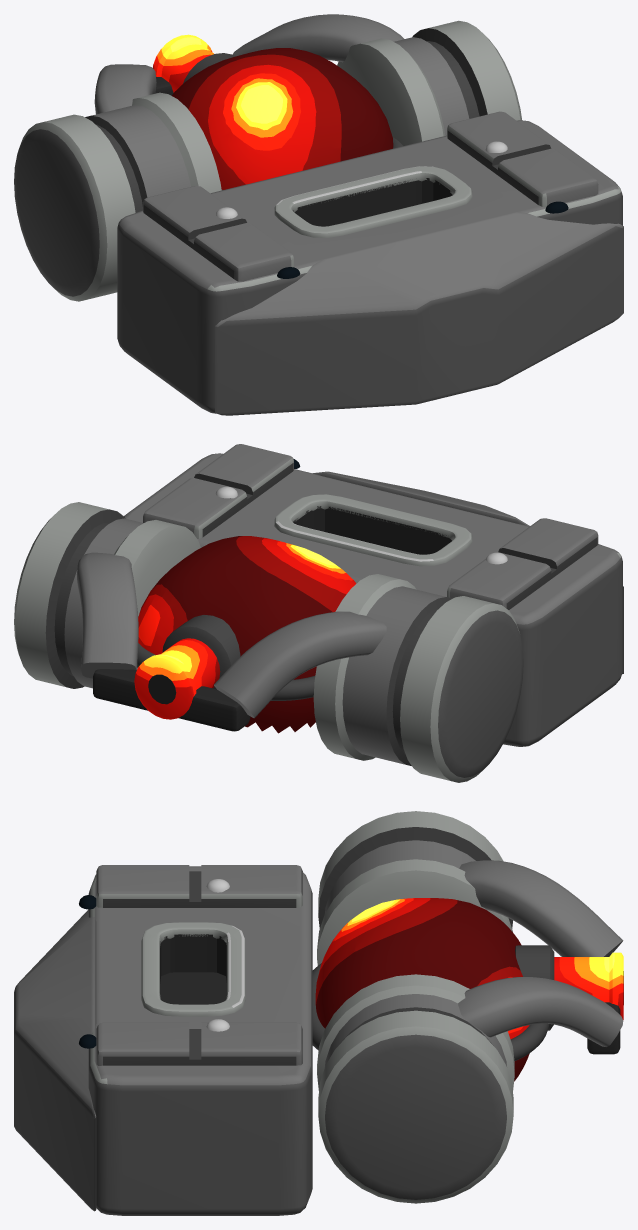
The model's file is k_turret.glb.
3 renders of one model, top to bottom at view 1: azimuth 30°, elevation 25°; view 2: azimuth 150°, elevation 25°; view 3: azimuth 270°, elevation 25°, orthographic. The views are drawn at different scales.
Parts seen in each view (by area): view 1: base_roof, base_block, sleeve-1, core, sleeve1, base_flange-1, base_flange1, base_frame, arm1, arm-1, neck; view 2: base_block, sleeve-1, core, sleeve1, arm-1, base_flange-1, base_flange1, arm1, base_frame, neck, yoke, neck_collar (+3 smaller); view 3: base_block, sleeve1, base_roof, core, sleeve-1, base_flange1, base_flange-1, arm-1, arm1, base_frame, neck, hoop (+1 smaller).
Part boxes in pixels (box(x1,y1,x2,y2)): base_roof: box(215, 212, 623, 415); base_block: box(117, 120, 622, 413); sleeve-1: box(14, 92, 221, 301); core: box(172, 48, 393, 189); sleeve1: box(337, 20, 521, 145); base_flange-1: box(143, 186, 293, 281); base_flange1: box(447, 111, 598, 207); base_frame: box(274, 166, 472, 237); arm1: box(232, 14, 404, 62); arm-1: box(94, 64, 156, 114); neck: box(153, 34, 213, 92); base_block: box(124, 453, 622, 746); sleeve-1: box(313, 574, 523, 782); core: box(138, 536, 356, 733); sleeve1: box(14, 502, 200, 688); arm-1: box(214, 611, 386, 718); base_flange-1: box(447, 518, 598, 609); base_flange1: box(143, 444, 293, 538); arm1: box(76, 552, 138, 678); base_frame: box(274, 494, 472, 566); neck: box(134, 638, 220, 719); yoke: box(93, 669, 250, 731); neck_collar: box(162, 615, 240, 689); base_block: box(88, 866, 312, 1215); sleeve1: box(317, 974, 514, 1203); base_roof: box(14, 909, 96, 1211); core: box(315, 898, 529, 1081); sleeve-1: box(317, 811, 512, 965); base_flange1: box(96, 1022, 302, 1065); base_flange-1: box(96, 865, 302, 907); arm-1: box(459, 860, 623, 956); arm1: box(458, 977, 623, 1046); base_frame: box(141, 922, 245, 1016); neck: box(554, 952, 623, 1019); hoop: box(312, 963, 549, 1060).
Size of the model in its own units: 24 by 10.3 by 27.77.
